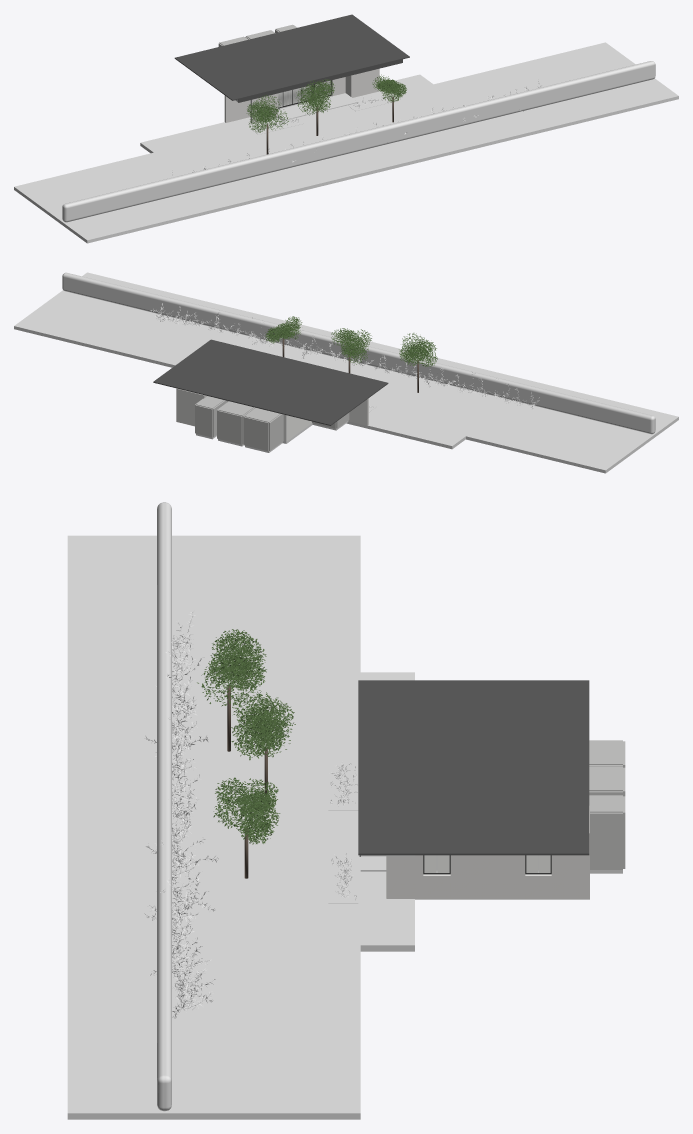
File: ldk_2500.glb
3 views of the same model, one above another, from view 1: azimuth 30°, elevation 25°; view 2: azimuth 150°, elevation 25°; view 3: azimuth 270°, elevation 25° (orthographic). The views are drawn at different scales.
Visible parts, largest first — view 1: 芝生, 生垣, 屋根, 芝生_西庭, シンボルツリー3_葉, シンボルツリー1_葉, テラス_タイル, 鼻隠し, 外壁_東_子南, 芝生_東庭, シンボルツリー2_葉, 外壁_西 (+2 smaller); view 2: 芝生, 生垣, 屋根, 芝生_西庭, シンボルツリー1_葉, シンボルツリー3_葉, 洗面室_奥壁, パントリー_奥壁, 外壁_東_子北, シンボルツリー2_葉, 玄関ホール_奥壁, パントリー_側壁1 (+2 smaller); view 3: 芝生, 屋根, 生垣, 芝生_東庭, 外壁_東_側面1, シンボルツリー3_葉, シンボルツリー2_葉, シンボルツリー1_葉, 玄関ホール_側壁2, 外壁_東_側面2, 外壁_東_側面0, 植栽帯_西 (+1 smaller).
Boxes of the visible parts, x1=… form: 芝生: x1=14, y1=42, x2=678, y2=243; 生垣: x1=62, y1=61, x2=655, y2=222; 屋根: x1=174, y1=14, x2=409, y2=100; 芝生_西庭: x1=140, y1=117, x2=281, y2=153; シンボルツリー3_葉: x1=246, y1=95, x2=288, y2=132; シンボルツリー1_葉: x1=296, y1=79, x2=334, y2=115; テラス_タイル: x1=278, y1=93, x2=357, y2=120; 鼻隠し: x1=238, y1=59, x2=402, y2=102; 外壁_東_子南: x1=352, y1=68, x2=379, y2=97; 芝生_東庭: x1=353, y1=74, x2=432, y2=102; シンボルツリー2_葉: x1=372, y1=74, x2=406, y2=102; 外壁_西: x1=226, y1=96, x2=250, y2=122; 芝生: x1=14, y1=272, x2=678, y2=473; 生垣: x1=62, y1=272, x2=655, y2=434; 屋根: x1=153, y1=339, x2=388, y2=425; 芝生_西庭: x1=346, y1=412, x2=465, y2=449; シンボルツリー1_葉: x1=331, y1=328, x2=371, y2=364; シンボルツリー3_葉: x1=399, y1=333, x2=437, y2=366; 洗面室_奥壁: x1=217, y1=410, x2=242, y2=444; パントリー_奥壁: x1=244, y1=417, x2=268, y2=451; 外壁_東_子北: x1=176, y1=388, x2=204, y2=426; シンボルツリー2_葉: x1=265, y1=316, x2=302, y2=343; 玄関ホール_奥壁: x1=195, y1=405, x2=212, y2=437; パントリー_側壁1: x1=269, y1=414, x2=283, y2=450; 芝生: x1=67, y1=535, x2=360, y2=1119; 屋根: x1=358, y1=680, x2=589, y2=855; 生垣: x1=157, y1=502, x2=171, y2=1111; 芝生_東庭: x1=360, y1=871, x2=414, y2=951; 外壁_東_側面1: x1=450, y1=855, x2=525, y2=899; シンボルツリー3_葉: x1=197, y1=629, x2=266, y2=706; シンボルツリー2_葉: x1=213, y1=777, x2=280, y2=844; シンボルツリー1_葉: x1=231, y1=689, x2=295, y2=760; 玄関ホール_側壁2: x1=590, y1=812, x2=622, y2=869; 外壁_東_側面2: x1=551, y1=855, x2=589, y2=899; 外壁_東_側面0: x1=386, y1=855, x2=423, y2=899; 植栽帯_西: x1=328, y1=766, x2=358, y2=810.
Size of the model in its own units: 55 by 5.55 by 22.45.
